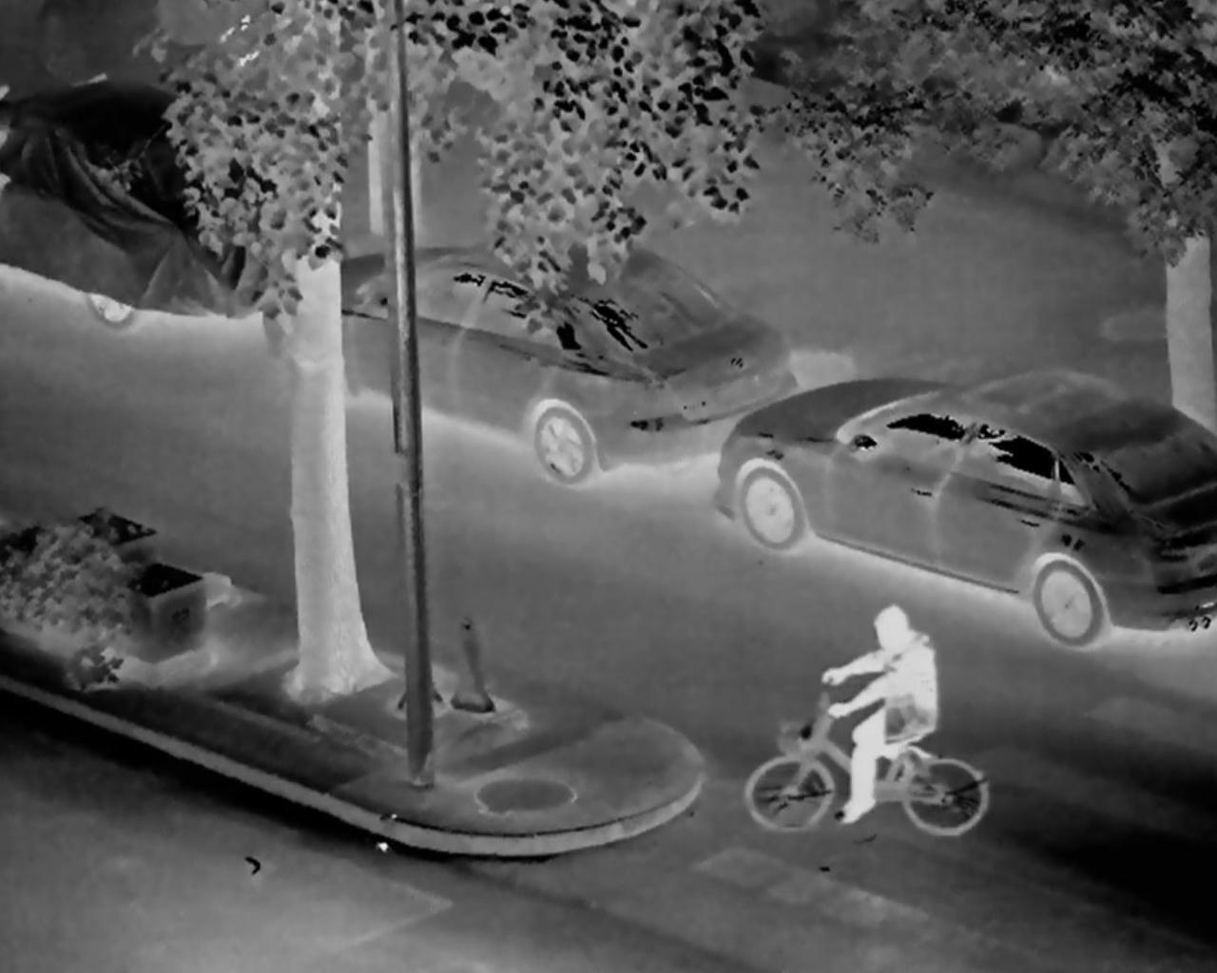person: (811, 592, 955, 848)
